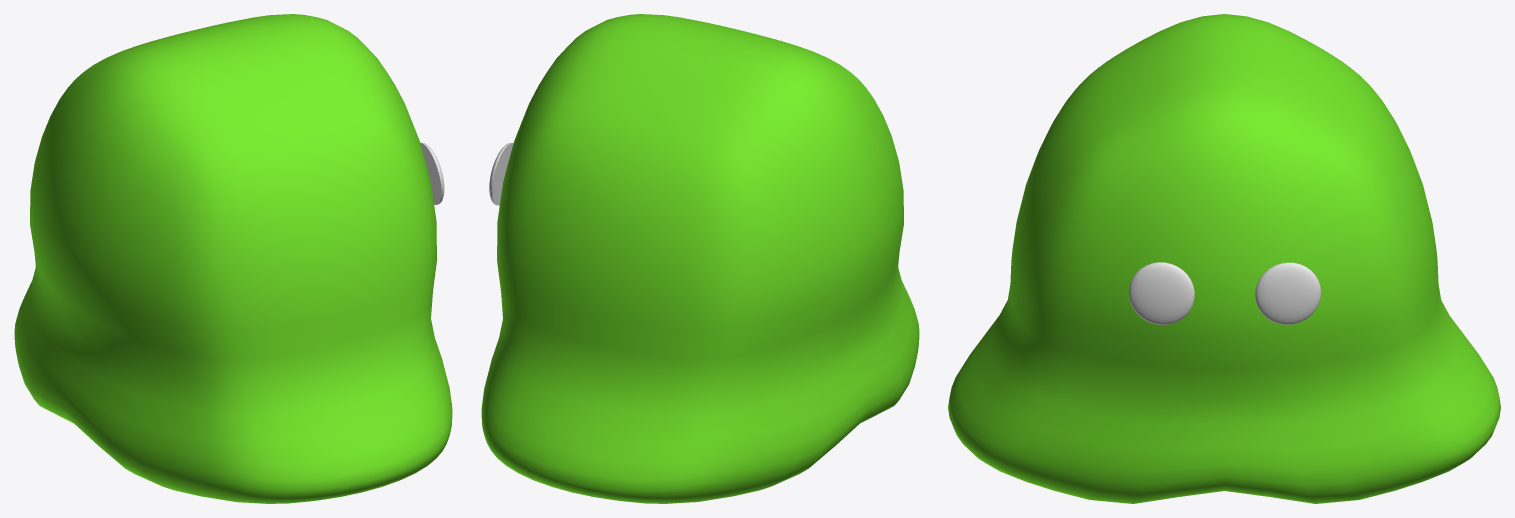
Rendered from SJ_variation_2_model.fbx.
3 renders of one model, left to right at view 1: azimuth 30°, elevation 25°; view 2: azimuth 150°, elevation 25°; view 3: azimuth 270°, elevation 25°, orthographic. The views are drawn at different scales.
Visible parts, largest first — view 1: Sphere; view 2: Sphere; view 3: Sphere.
Boxes of the visible parts, box(x1,y1,x2,y2) form: Sphere: box(14, 14, 452, 503); Sphere: box(481, 14, 919, 503); Sphere: box(948, 14, 1500, 503).
Bounding box in the file's own units: 13.87 × 14.79 × 18.84.
